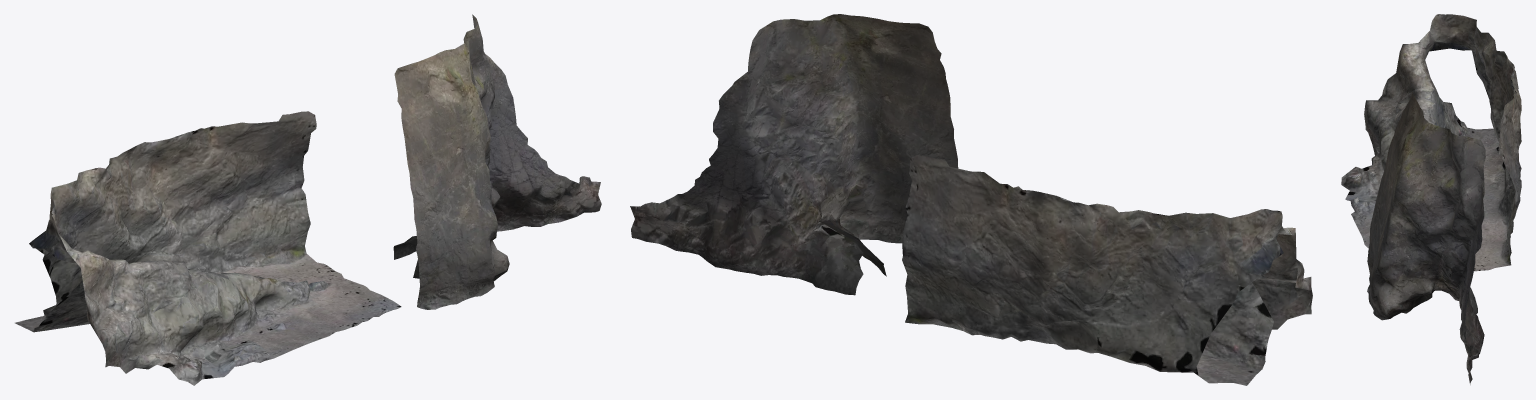
The model's file is roccia.glb.
3 views of the same model, side by side, from view 1: azimuth 30°, elevation 25°; view 2: azimuth 150°, elevation 25°; view 3: azimuth 270°, elevation 25° (orthographic). The views are drawn at different scales.
Visible parts, largest first — view 1: Object_4, Object_2; view 2: Object_4, Object_2; view 3: Object_2, Object_4.
Boxes of the visible parts, bbox=[...] form: Object_4: bbox=[15, 111, 401, 385]; Object_2: bbox=[393, 14, 601, 309]; Object_4: bbox=[902, 155, 1312, 385]; Object_2: bbox=[630, 14, 958, 295]; Object_2: bbox=[1367, 91, 1485, 384]; Object_4: bbox=[1341, 14, 1521, 271].
Size of the model in its own units: 8.02 by 3.07 by 2.5.
Materials: 2 (2 with a texture image).
